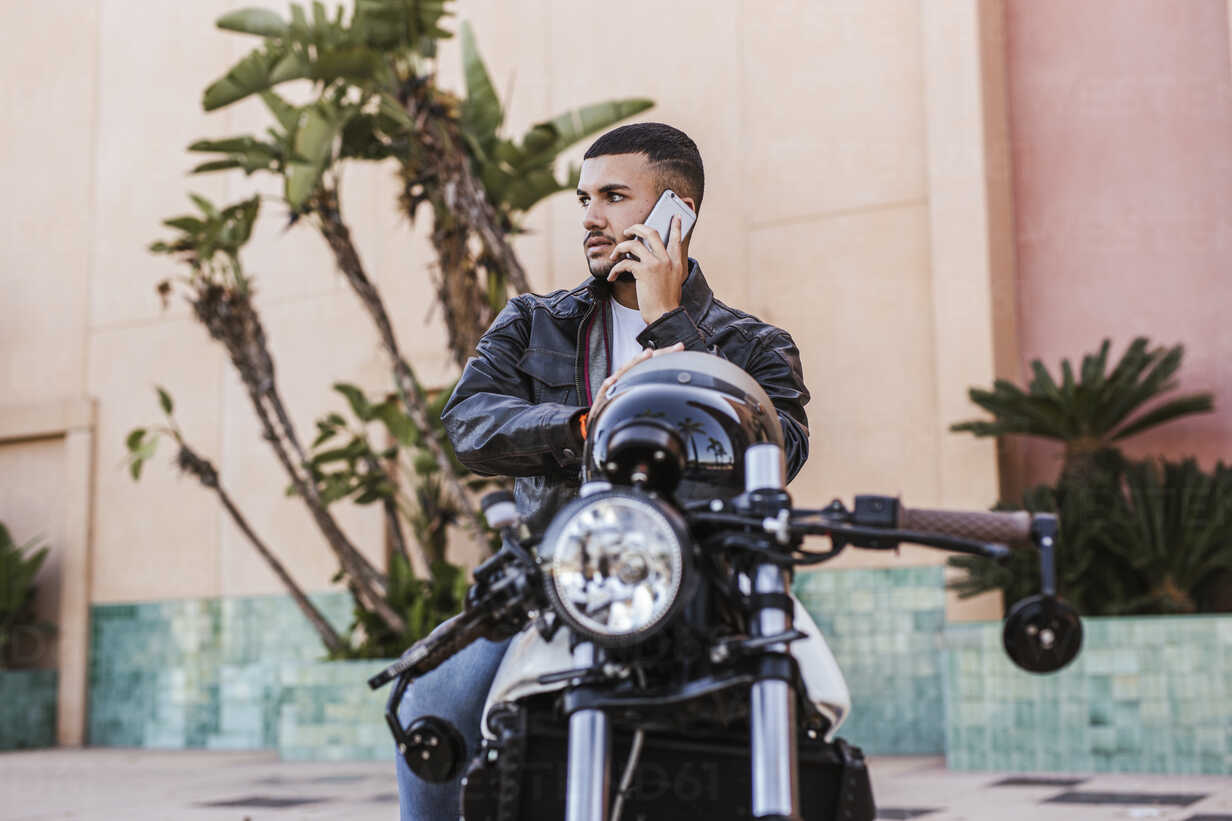su dung dien thoai: (577, 110, 702, 318)
